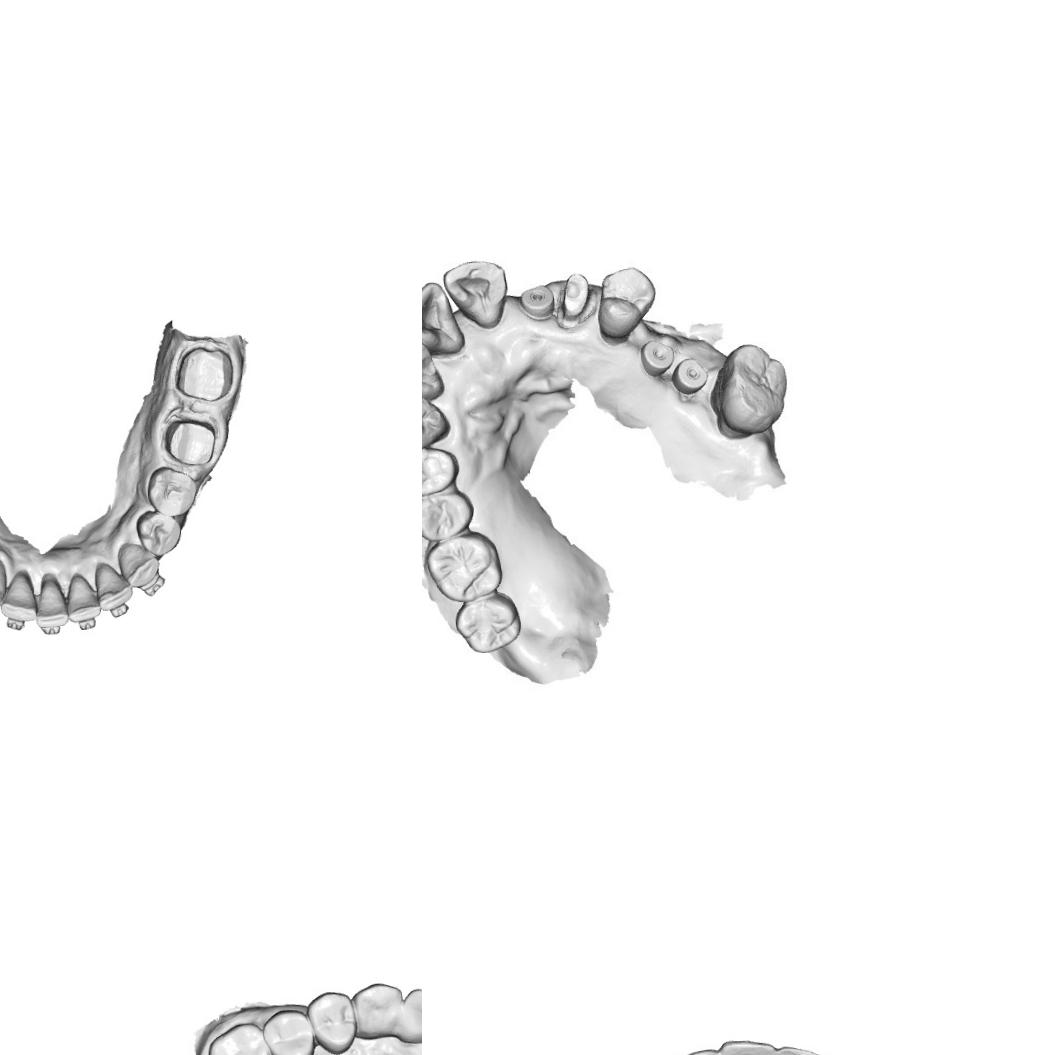canine: (350, 980, 405, 1040), (115, 537, 161, 590), (422, 387, 451, 451)
crown: (170, 343, 235, 403), (161, 413, 218, 467), (556, 266, 594, 327)
implant: (636, 337, 678, 378), (517, 281, 556, 320), (672, 354, 707, 392)
incisor: (440, 258, 510, 338), (422, 277, 463, 353), (92, 558, 135, 612), (0, 566, 38, 623), (63, 570, 103, 624), (31, 574, 69, 630), (393, 985, 422, 1045), (717, 1033, 778, 1055), (422, 344, 445, 400), (775, 1041, 832, 1055), (674, 1045, 721, 1055)
molar: (707, 337, 797, 441), (424, 530, 504, 604), (451, 590, 528, 658), (204, 1019, 278, 1055)
premolar: (592, 262, 660, 344), (305, 988, 358, 1055), (143, 463, 199, 518), (422, 488, 476, 540), (260, 1007, 317, 1055), (133, 506, 183, 557), (422, 443, 460, 497)
